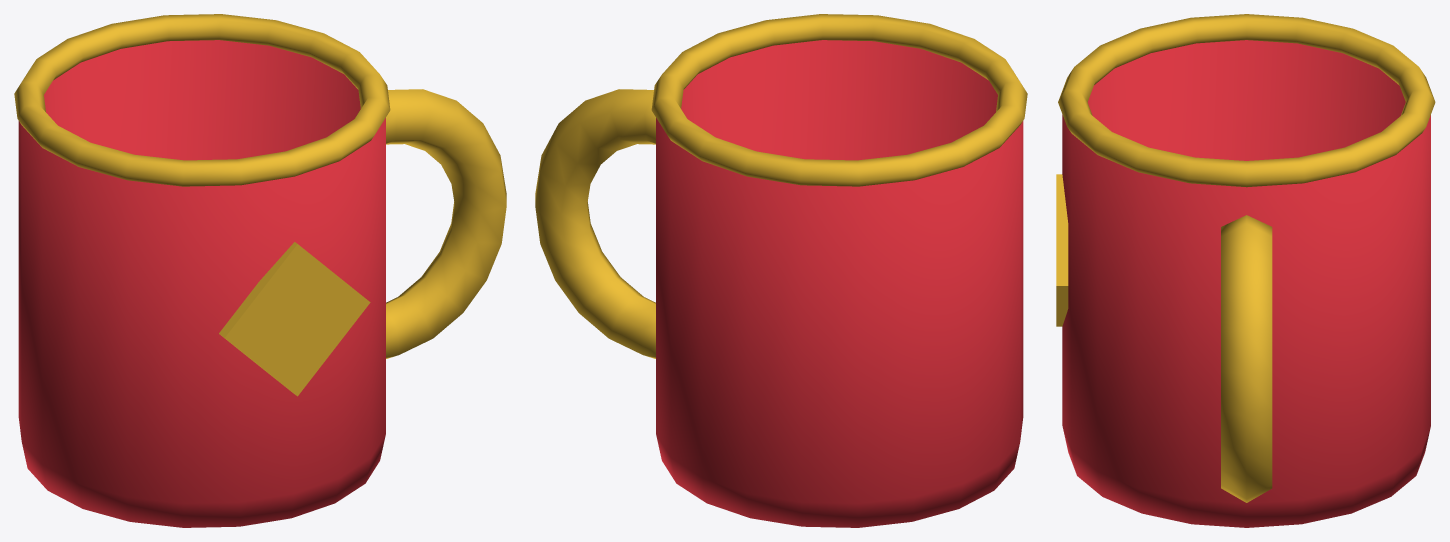
Rendered from BossMug.fbx.
The picture shows the model from 3 angles, left to right: view 1: azimuth 30°, elevation 25°; view 2: azimuth 150°, elevation 25°; view 3: azimuth 270°, elevation 25°; orthographic projection.
Parts seen in each view (by area): view 1: Cup.005, Rim.001, Handle.008, Star; view 2: Cup.005, Rim.001, Handle.008; view 3: Cup.005, Rim.001, Handle.008, Star.
Part boxes in pixels (x1=…): Cup.005: x1=18, y1=40, x2=385, y2=527; Rim.001: x1=14, y1=14, x2=390, y2=186; Handle.008: x1=386, y1=89, x2=506, y2=358; Star: x1=219, y1=242, x2=370, y2=396; Cup.005: x1=656, y1=40, x2=1023, y2=527; Rim.001: x1=651, y1=14, x2=1027, y2=186; Handle.008: x1=535, y1=89, x2=655, y2=358; Cup.005: x1=1062, y1=40, x2=1430, y2=527; Rim.001: x1=1058, y1=14, x2=1435, y2=187; Handle.008: x1=1221, y1=215, x2=1272, y2=502; Star: x1=1056, y1=174, x2=1068, y2=326.
Size of the model in its own units: 0.1815 by 0.1343 by 0.1275.
